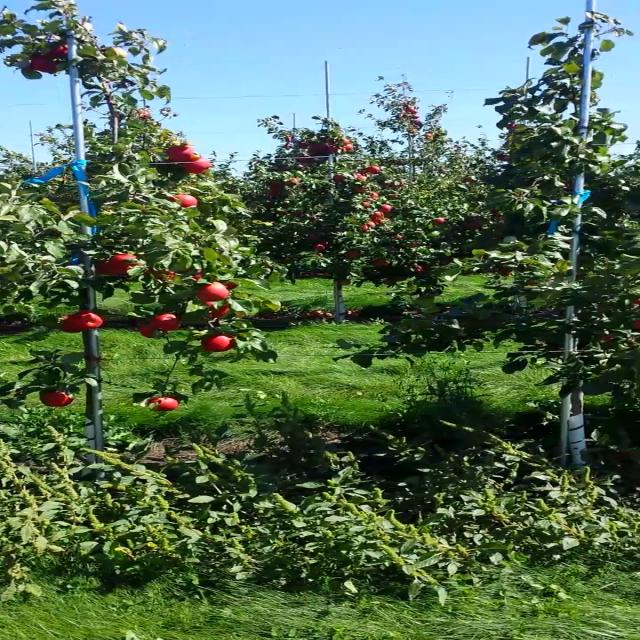apple: (95, 252, 136, 276), (198, 281, 230, 301), (39, 389, 74, 407), (201, 334, 234, 352), (73, 310, 102, 330), (180, 154, 210, 173), (58, 314, 84, 333), (31, 54, 58, 72), (146, 397, 180, 411), (166, 145, 195, 161), (151, 314, 180, 330), (204, 301, 228, 319), (143, 267, 175, 279), (166, 195, 197, 207), (45, 44, 67, 58), (138, 324, 156, 338), (188, 266, 205, 280), (111, 46, 126, 58), (600, 333, 614, 341), (224, 281, 237, 289), (632, 318, 639, 328), (630, 298, 639, 304)
